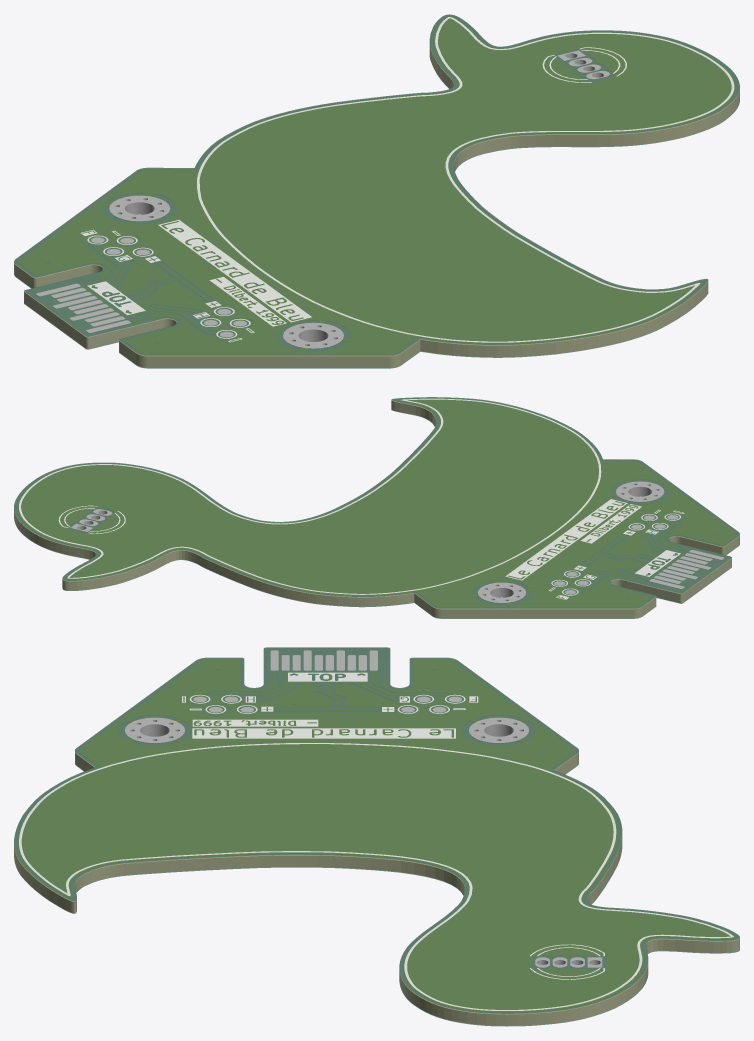
Rendered from le-carnard-de-bleu-hexpansion.glb.
3 renders of one model, top to bottom at view 1: azimuth 30°, elevation 25°; view 2: azimuth 150°, elevation 25°; view 3: azimuth 270°, elevation 25°, orthographic. The views are drawn at different scales.
Parts seen in each view (by area): view 1: =>[0:1:1:7], =>[0:1:1:2], =>[0:1:1:9], =>[0:1:1:5]; view 2: =>[0:1:1:7], =>[0:1:1:2], =>[0:1:1:9], =>[0:1:1:5]; view 3: =>[0:1:1:7], =>[0:1:1:2], =>[0:1:1:9], =>[0:1:1:5].
Part boxes in pixels (x1,y1,x2,y2): =>[0:1:1:7]: (14,14,739,368); =>[0:1:1:2]: (19,19,734,353); =>[0:1:1:9]: (14,15,739,367); =>[0:1:1:5]: (81,17,734,342); =>[0:1:1:7]: (14,397,739,618); =>[0:1:1:2]: (18,400,735,607); =>[0:1:1:9]: (14,398,739,618); =>[0:1:1:5]: (19,398,684,599); =>[0:1:1:7]: (14,647,739,1026); =>[0:1:1:2]: (19,650,734,1011); =>[0:1:1:9]: (14,648,739,1025); =>[0:1:1:5]: (19,672,733,1010).
Bounding box in the file's own units: 0.063 × 0.00106 × 0.0528.
Materials: 4 (4 with a texture image).
